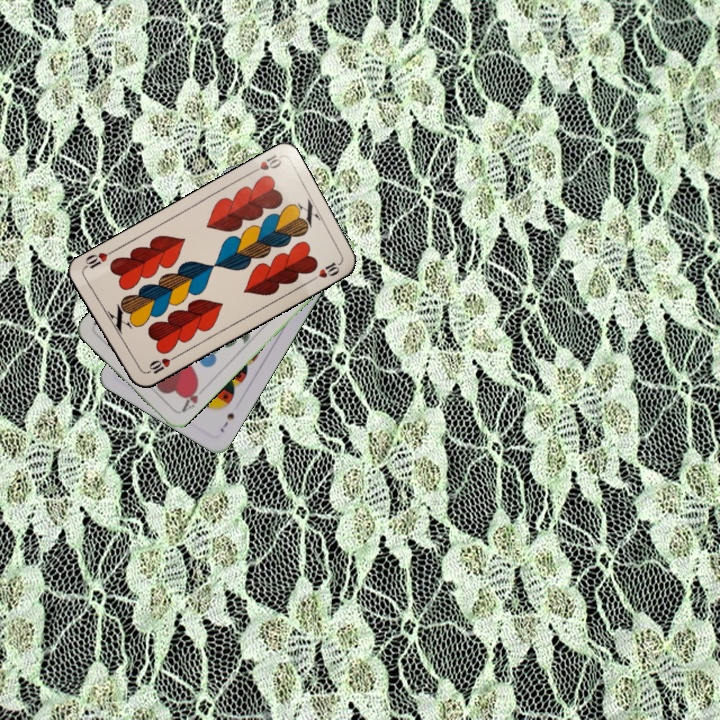H10: (245, 150, 284, 177), (141, 352, 179, 377)
HA: (177, 380, 201, 415)
S7: (216, 409, 237, 435)
